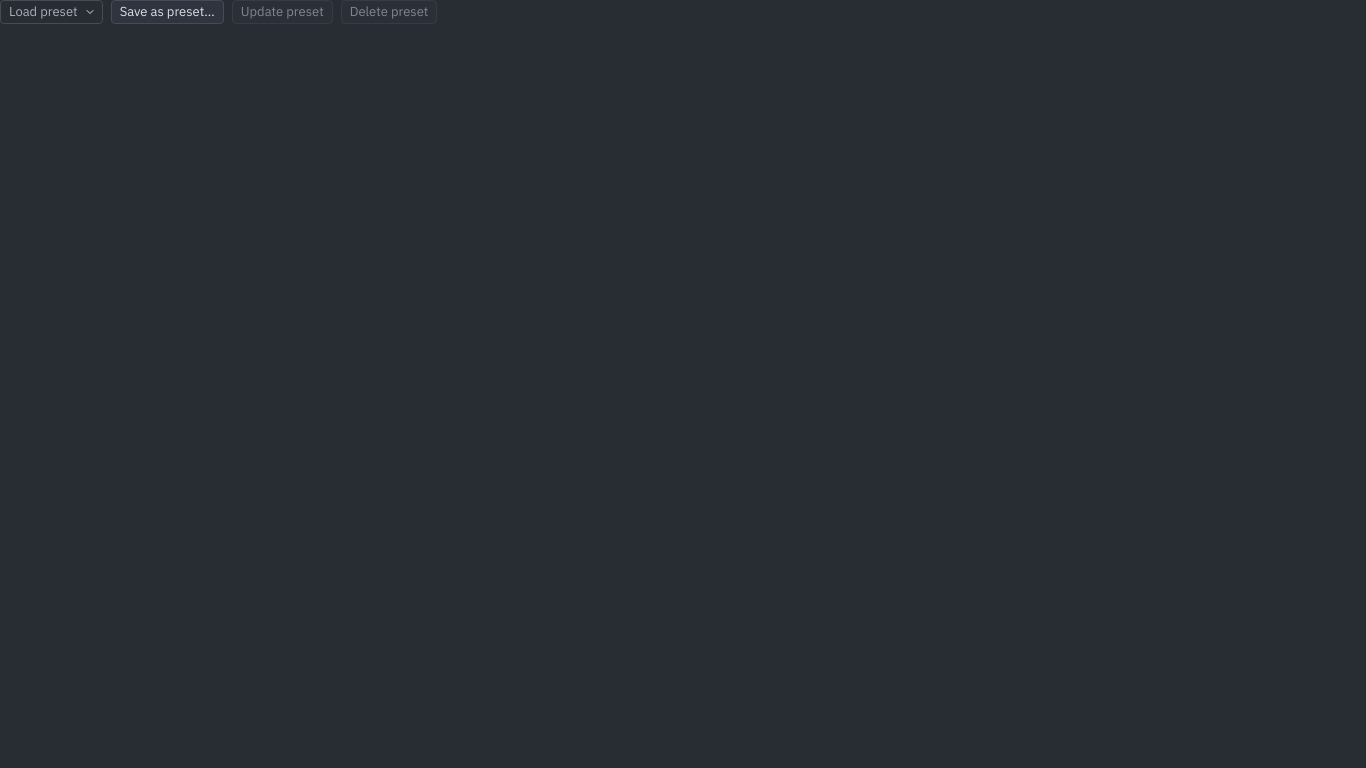
it: ExportPresetBar › opens the save dialog
Click the button "Save as preset…".
click(167, 12)  # box 111,0 -> 224,24
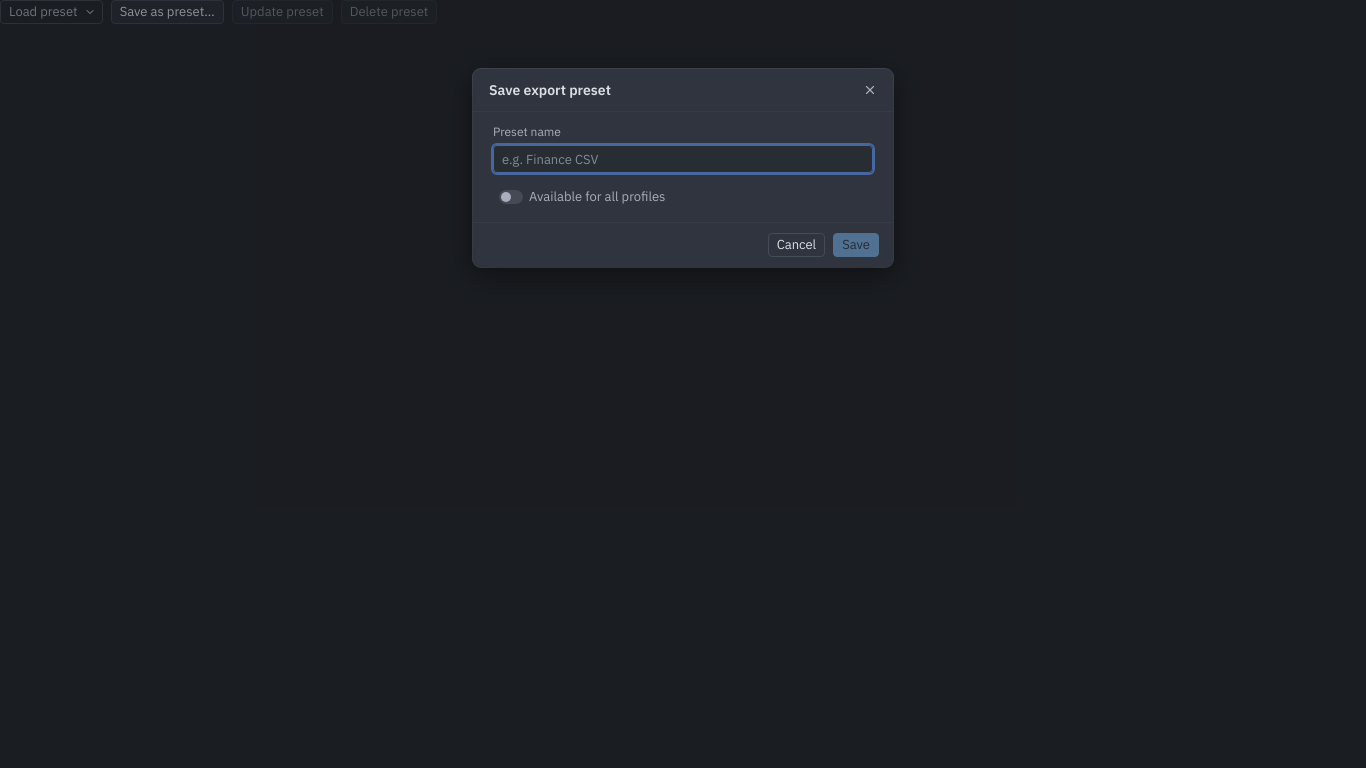
Now the field labelled "Preset name" is shown, box 493,145 -> 873,173
